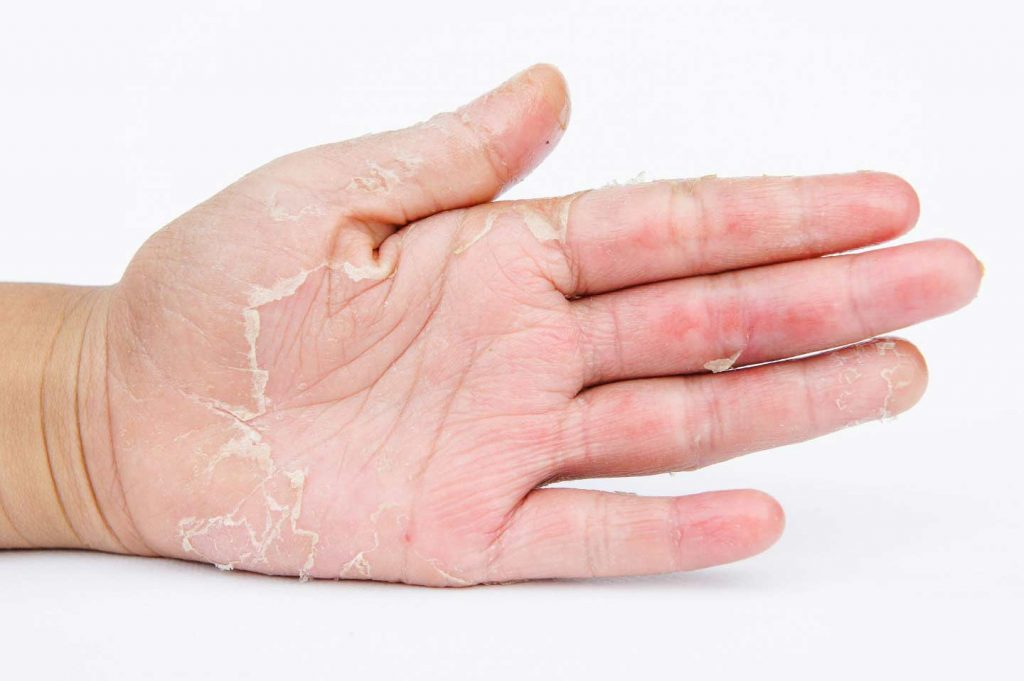Eczema: (207, 205, 782, 534)
